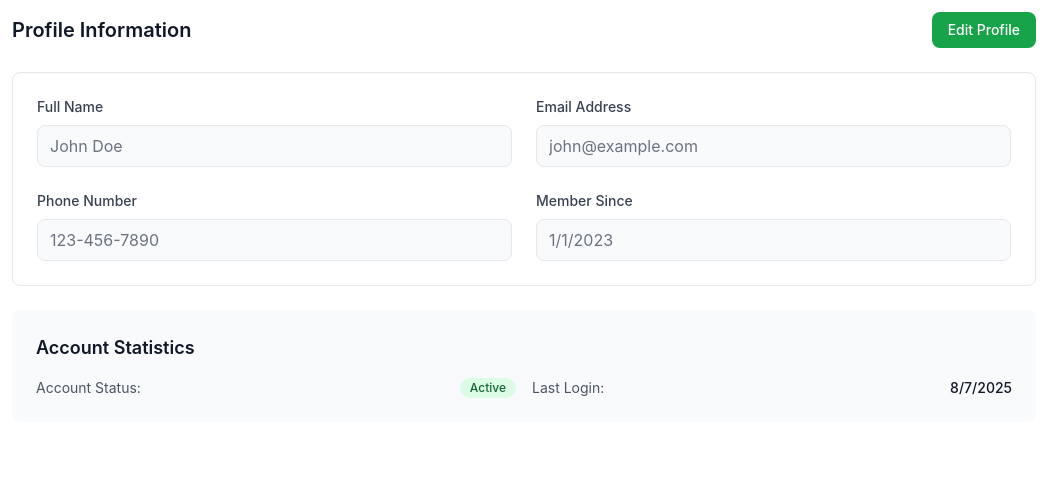
ProfileEdit › cancels editing and resets form data
The image size is (1048, 490).
Note: Enter edit mode
Click the button "Edit Profile": (984, 30) [932,12,1036,48]
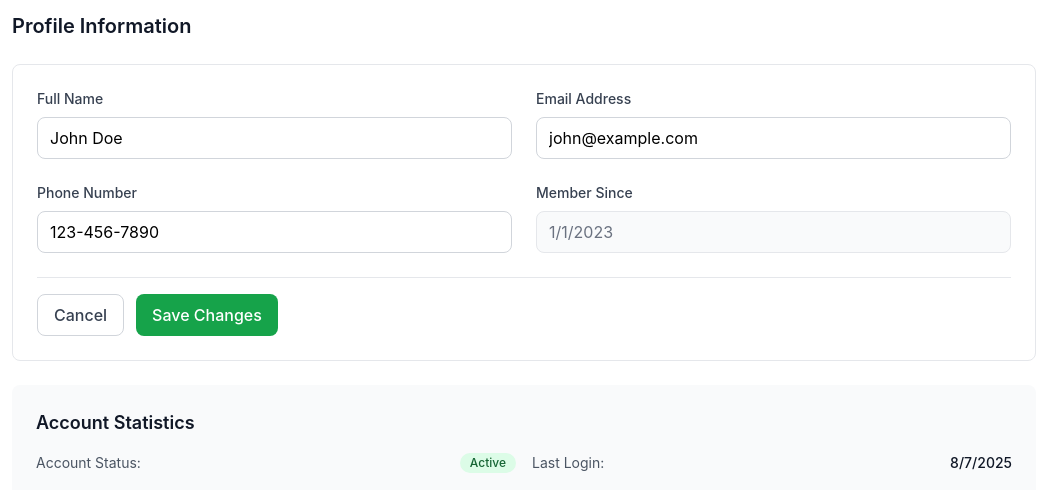
Note: Change some values
Replace the text in the field showing "John Doe" with "Jane Doe": (274, 138) [37,117,512,159]
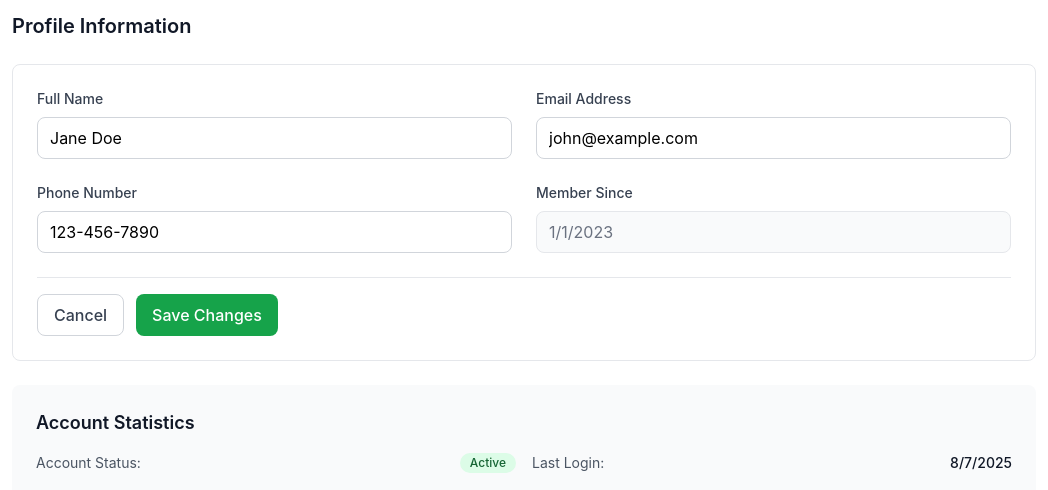
Note: Cancel editing
Click the button "Cancel": (81, 315) [37,294,124,336]
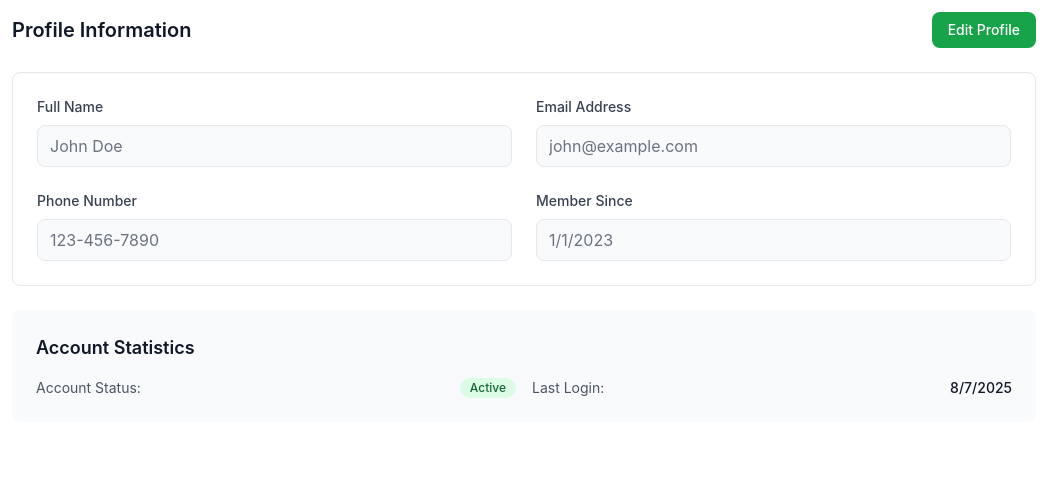
Result: the button "Edit Profile" is shown at [932,12,1036,48]
Result: the field showing "John Doe" is disabled at [37,125,512,167]
